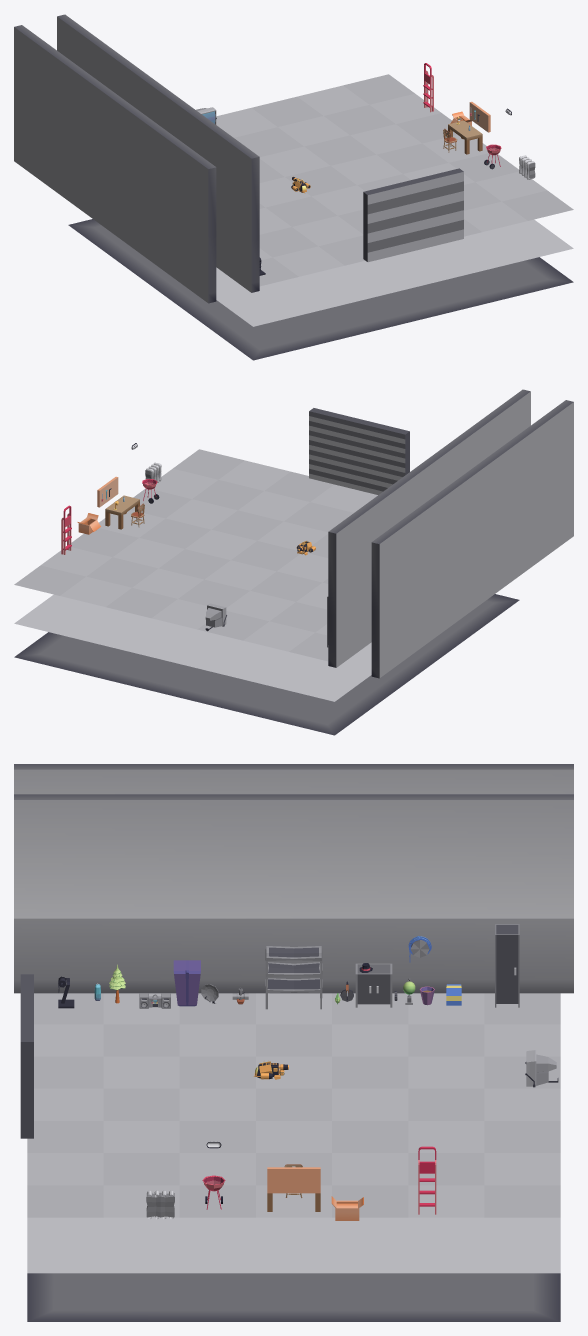
File: GarageFbxs.fbx
3 renders of one model, top to bottom at view 1: azimuth 30°, elevation 25°; view 2: azimuth 150°, elevation 25°; view 3: azimuth 270°, elevation 25°, orthographic. The views are drawn at different scales.
Parts seen in each view (by area): view 1: Garage_Floor_Quads, Garage_wall, Garage_Floor_Dark, Garage_wall 01, Garage_Floor_White, Garage_gate, Desk; view 2: Garage_Floor_Quads, Garage_wall, Garage_Floor_Dark, Garage_Floor_White, Garage_wall 01, Garage_gate, Desk, TV, Stairs; view 3: Garage_Floor_Quads, Garage_wall 01, Garage_Floor_White, Garage_Floor_Dark, Garage_wall, Shelf, Garage_gate, Cabinet_L, Cabinet_S, Tool_Board, Trash, TV (+2 smaller).
Part boxes in pixels (<box>): Garage_Floor_Quads: <box>216,74,573,286</box>; Garage_wall: <box>14,25,216,303</box>; Garage_Floor_Dark: <box>68,219,573,360</box>; Garage_wall 01: <box>57,14,259,292</box>; Garage_Floor_White: <box>216,219,573,326</box>; Garage_gate: <box>363,168,463,262</box>; Desk: <box>448,120,482,154</box>; Garage_Floor_Quads: <box>14,449,377,661</box>; Garage_wall: <box>371,400,573,678</box>; Garage_Floor_Dark: <box>14,594,519,735</box>; Garage_Floor_White: <box>14,594,371,701</box>; Garage_wall 01: <box>328,389,530,667</box>; Garage_gate: <box>309,408,409,494</box>; Desk: <box>105,495,139,529</box>; TV: <box>205,603,226,631</box>; Stairs: <box>61,505,71,554</box>; Garage_Floor_Quads: <box>27,993,560,1217</box>; Garage_wall 01: <box>14,794,573,993</box>; Garage_Floor_White: <box>27,1217,560,1273</box>; Garage_Floor_Dark: <box>27,1273,560,1321</box>; Garage_wall: <box>14,764,573,794</box>; Shelf: <box>265,946,322,1009</box>; Garage_gate: <box>20,974,33,1138</box>; Cabinet_L: <box>495,924,519,1007</box>; Cabinet_S: <box>355,963,392,1007</box>; Tool_Board: <box>267,1167,320,1193</box>; Trash: <box>173,960,200,1006</box>; TV: <box>525,1050,558,1087</box>.
Size of the model in its own units: 1232 by 2340 by 2100.
